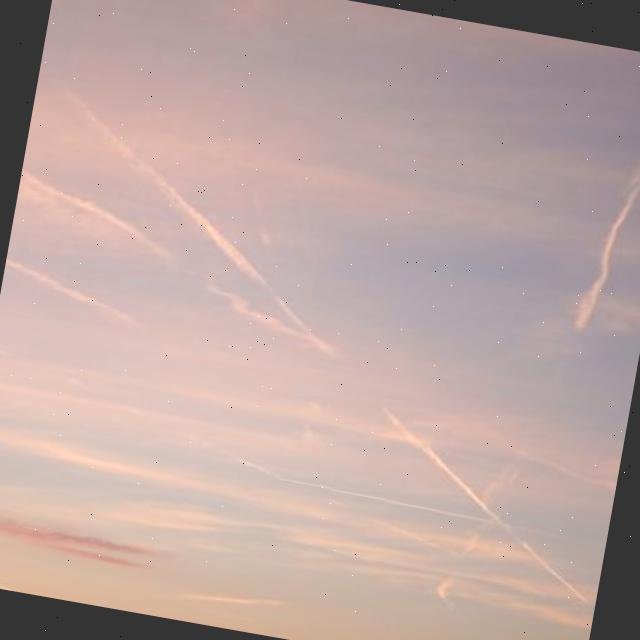Ct: (1, 1, 640, 586)
